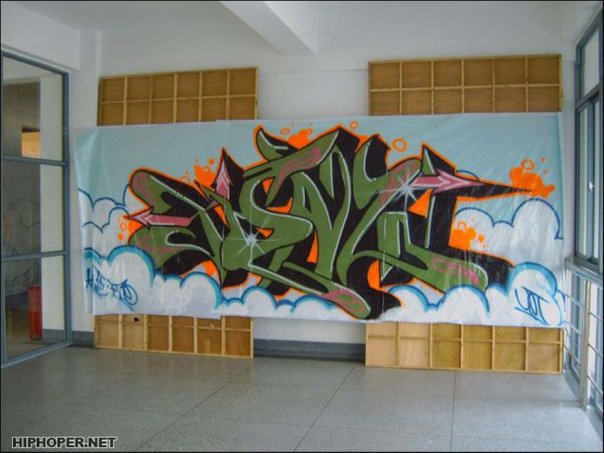graffity: (75, 115, 563, 322)
